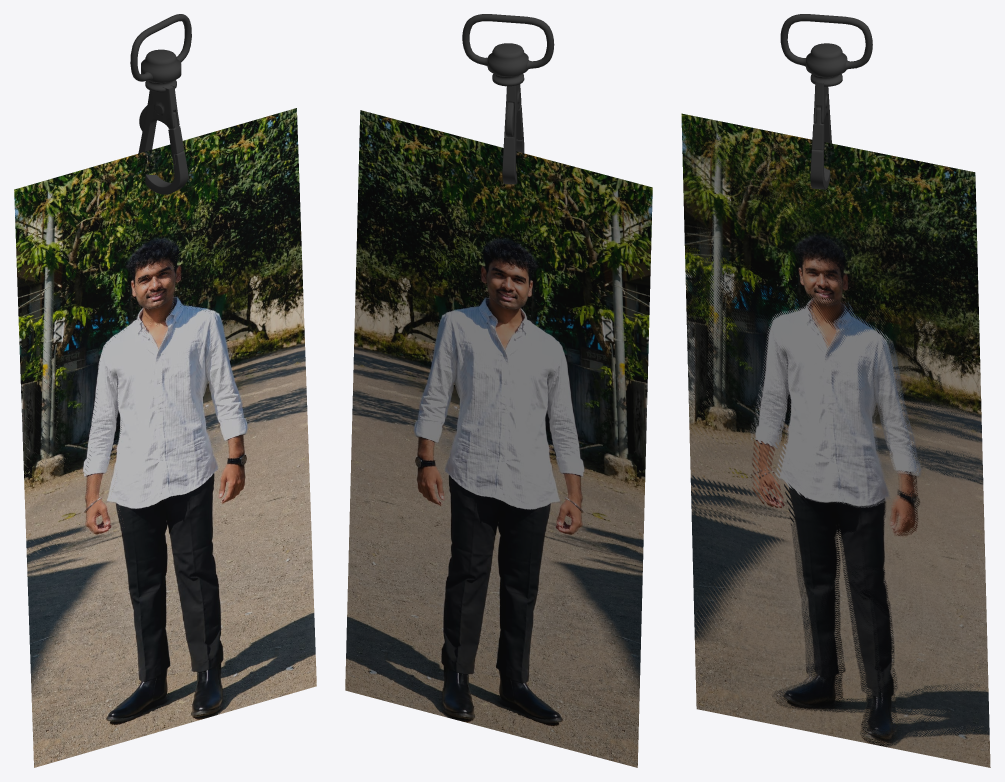
3 views of the same model, side by side, from view 1: azimuth 30°, elevation 25°; view 2: azimuth 150°, elevation 25°; view 3: azimuth 330°, elevation 25° (orthographic).
Parts seen in each view (by area): view 1: siddhesh, siddhesh.001, clamp, clip; view 2: siddhesh, clip, clamp; view 3: siddhesh.001, siddhesh, clip, clamp.
Boxes of the visible parts, <box> form: siddhesh: <box>14,108,316,767</box>; siddhesh.001: <box>15,118,275,697</box>; clamp: <box>138,85,188,194</box>; clip: <box>130,14,191,92</box>; siddhesh: <box>345,110,652,767</box>; clip: <box>462,14,554,86</box>; clamp: <box>502,84,524,184</box>; siddhesh.001: <box>682,117,987,766</box>; siddhesh: <box>681,113,990,767</box>; clip: <box>780,14,872,86</box>; clamp: <box>810,81,831,189</box>.
Size of the model in its own units: 0.5533 by 1.24 by 0.0903.
Materials: 4 (2 with a texture image).
